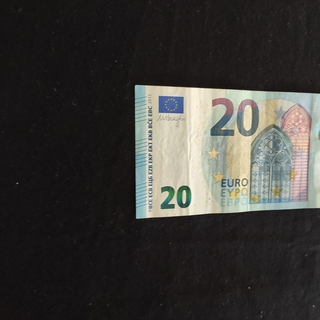20EUROFront: (134, 83, 320, 219)
